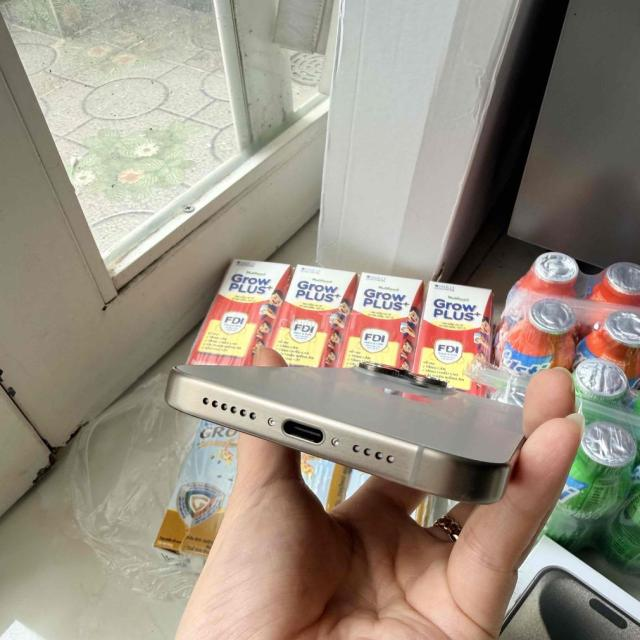gen_15: (165, 348, 532, 520)
